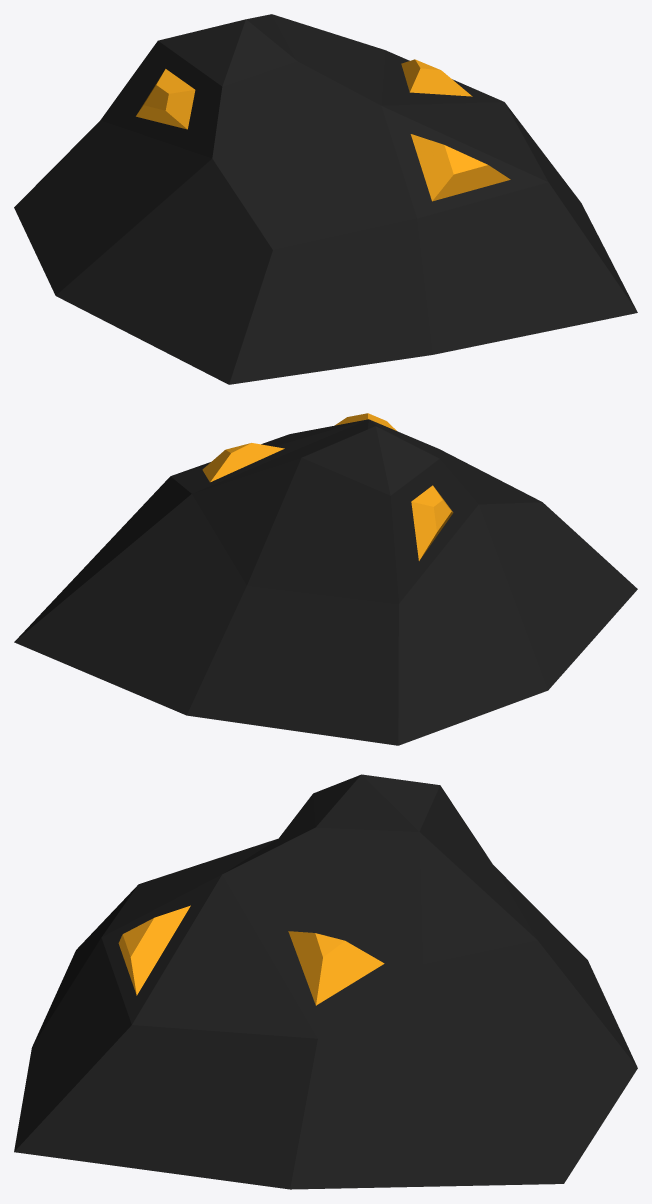
Rendered from Ore.fbx.
3 renders of one model, top to bottom at view 1: azimuth 30°, elevation 25°; view 2: azimuth 150°, elevation 25°; view 3: azimuth 270°, elevation 25°, orthographic. The views are drawn at different scales.
Visible parts, largest first — view 1: Kouseki; view 2: Kouseki; view 3: Kouseki.
Boxes of the visible parts, <box> form: Kouseki: <box>14,14,637,384</box>; Kouseki: <box>14,413,637,745</box>; Kouseki: <box>14,774,637,1189</box>.
Bounding box in the file's own units: 2.35 × 1.07 × 2.38.
